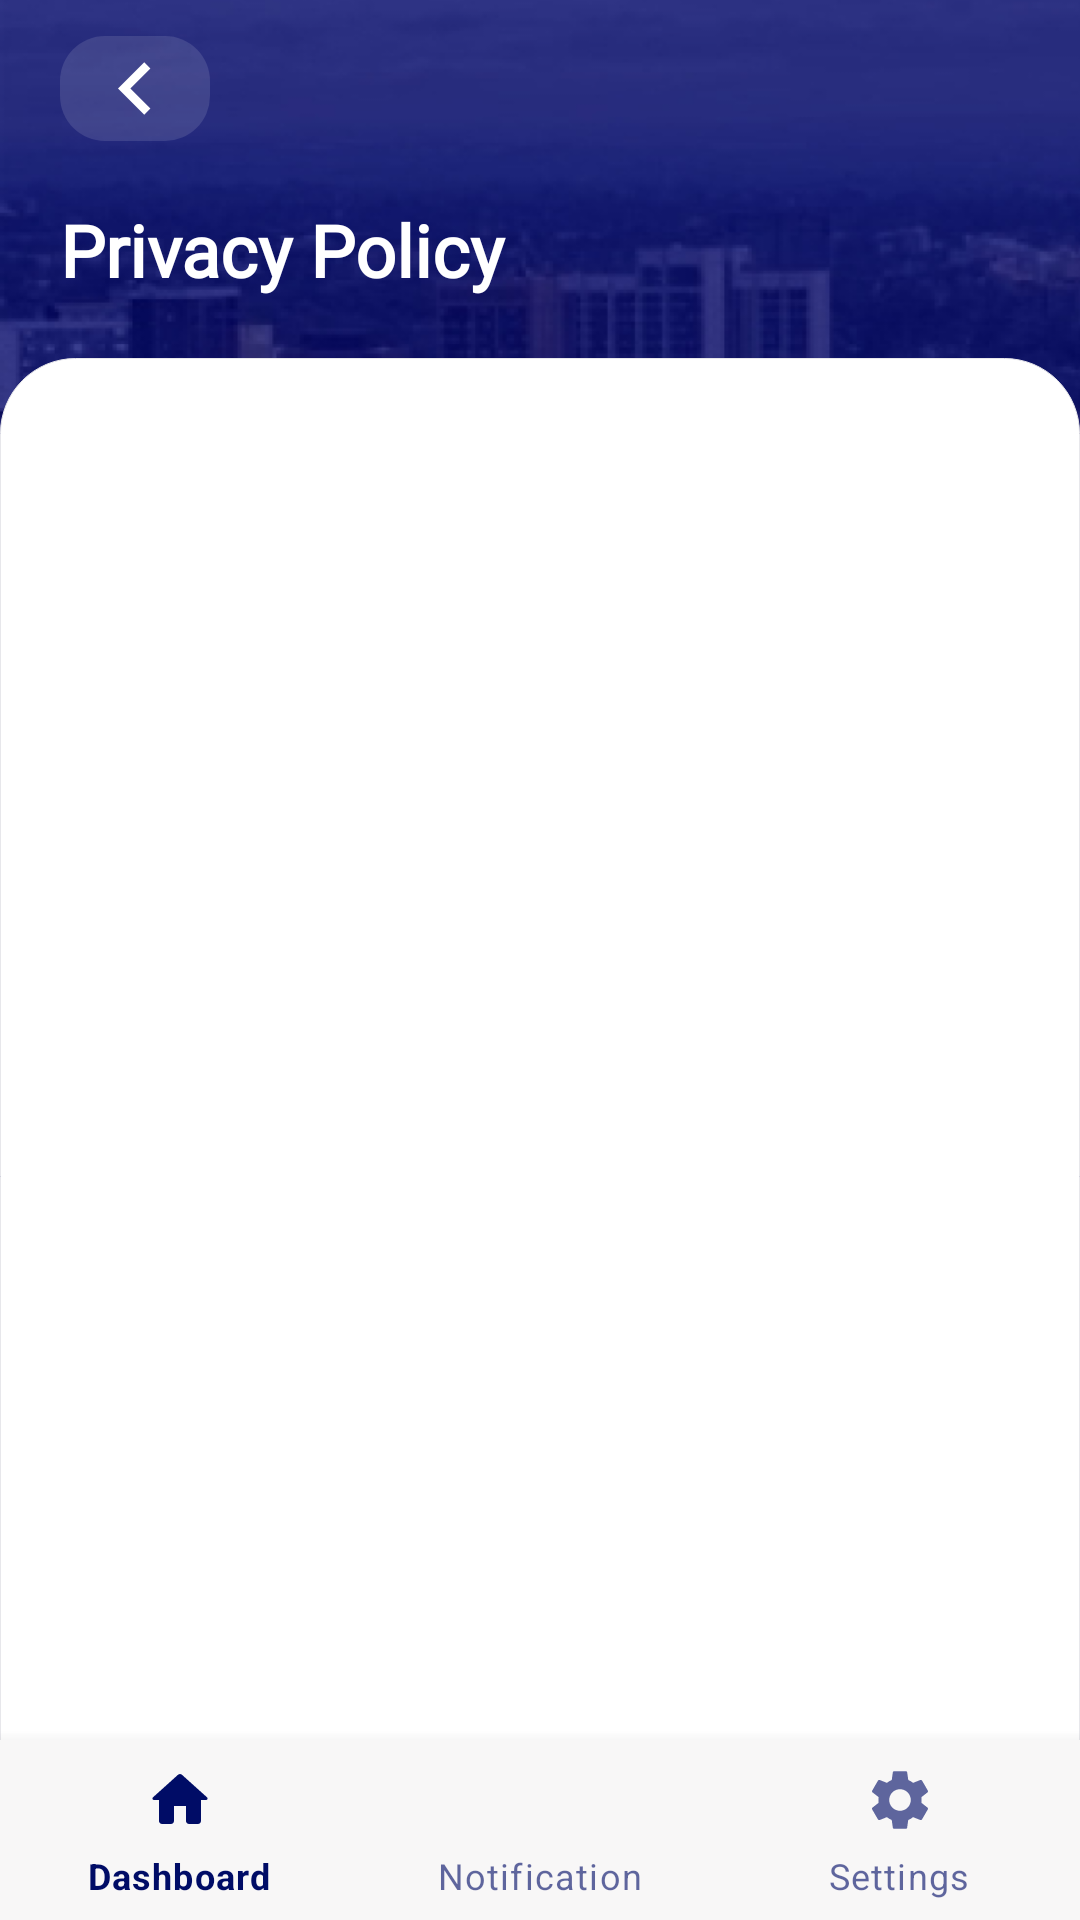

Where to tap for icons on this 1080*1920 app screen, as point (x, y):
navigate before: point (135, 87)
